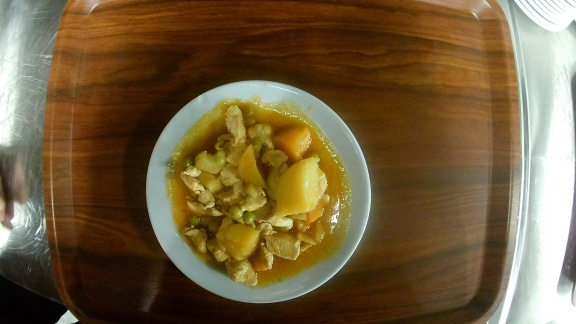bezelyelitavuk: (145, 79, 374, 305)
